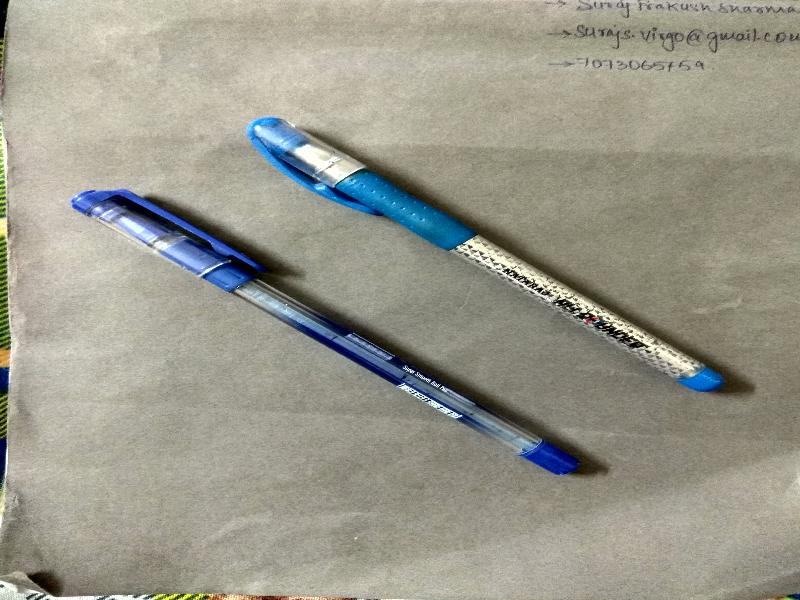pen: (64, 99, 738, 520)
